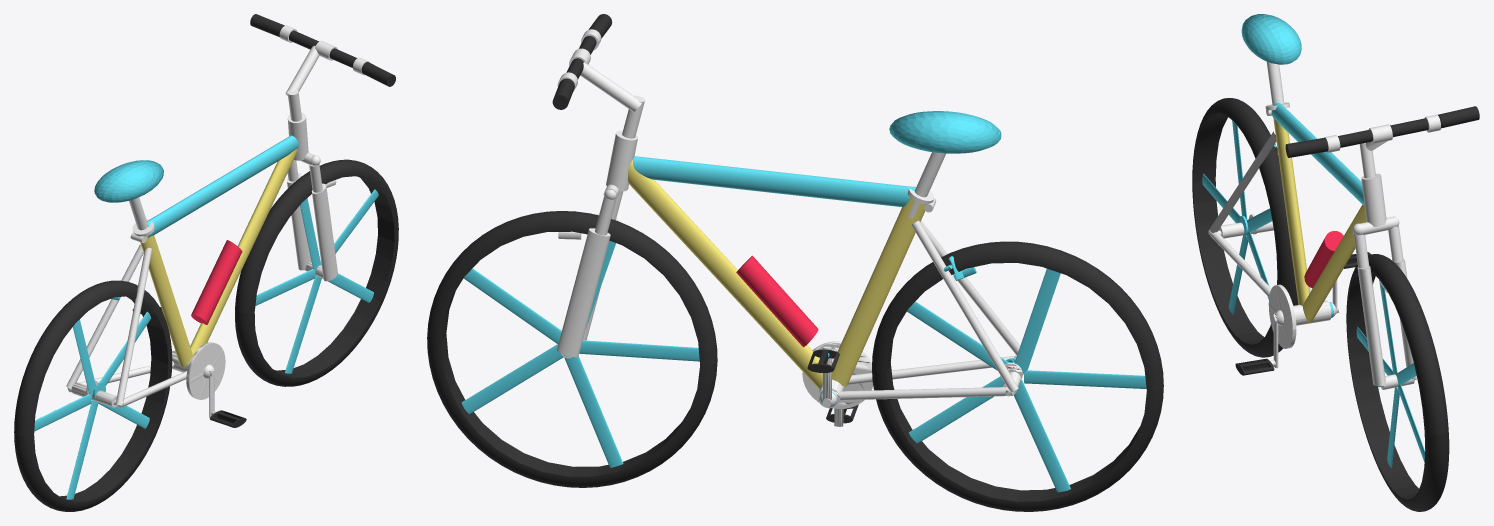
The model's file is 3b162adb-3783-4fbf-932c-a1a553deb1b7.glb.
The picture shows the model from 3 angles, left to right: view 1: azimuth 30°, elevation 25°; view 2: azimuth 150°, elevation 25°; view 3: azimuth 270°, elevation 25°; orthographic projection. The views are drawn at different scales.
Visible parts, largest first — view 1: _88004, Object002, MADLO60936, MADLO60931, Sphere002, MADLO60941, Cylinder002, MADLO60919, Vlec21016, MADLO60932, MADLO60934, MADLO60910 (+17 smaller); view 2: Object002, _88004, MADLO60936, MADLO60931, MADLO60941, Sphere002, MADLO60910, Cylinder002, MADLO60934, MADLO60907, MADLO60911, MADLO60922 (+12 smaller); view 3: Object002, _88004, MADLO60941, Sphere002, MADLO60931, MADLO60936, MADLO60919, Vlec21016, MADLO60940, MADLO60932, MADLO60905, Cylinder002 (+20 smaller).
Part boxes in pixels (bbox=[...]): _88004: bbox=[14, 280, 172, 511]; Object002: bbox=[235, 159, 398, 386]; MADLO60936: bbox=[147, 135, 298, 237]; MADLO60931: bbox=[190, 148, 297, 355]; Sphere002: bbox=[94, 160, 163, 202]; MADLO60941: bbox=[140, 235, 192, 366]; Cylinder002: bbox=[191, 240, 242, 324]; MADLO60919: bbox=[311, 183, 337, 281]; Vlec21016: bbox=[186, 342, 225, 399]; MADLO60932: bbox=[115, 247, 152, 405]; MADLO60934: bbox=[66, 244, 143, 389]; MADLO60910: bbox=[286, 173, 311, 270]; Object002: bbox=[427, 211, 717, 487]; _88004: bbox=[872, 241, 1163, 511]; MADLO60936: bbox=[633, 156, 915, 206]; MADLO60931: bbox=[628, 160, 822, 389]; MADLO60941: bbox=[832, 197, 924, 386]; Sphere002: bbox=[889, 111, 1001, 153]; MADLO60910: bbox=[557, 228, 610, 357]; Cylinder002: bbox=[736, 255, 818, 347]; MADLO60934: bbox=[911, 220, 1018, 391]; MADLO60907: bbox=[564, 356, 623, 467]; MADLO60911: bbox=[579, 340, 699, 361]; MADLO60922: bbox=[1024, 370, 1146, 388]; Object002: bbox=[1346, 254, 1449, 511]; _88004: bbox=[1192, 98, 1298, 357]; MADLO60941: bbox=[1273, 118, 1309, 305]; Sphere002: bbox=[1241, 14, 1301, 64]; MADLO60931: bbox=[1302, 204, 1366, 323]; MADLO60936: bbox=[1271, 102, 1364, 205]; MADLO60919: bbox=[1357, 266, 1385, 386]; Vlec21016: bbox=[1268, 284, 1296, 348]; MADLO60940: bbox=[1361, 173, 1386, 226]; MADLO60932: bbox=[1208, 130, 1276, 234]; MADLO60905: bbox=[1338, 115, 1441, 147]; Cylinder002: bbox=[1304, 231, 1343, 288].
Bounding box in the file's own units: 979 × 668 × 455.
